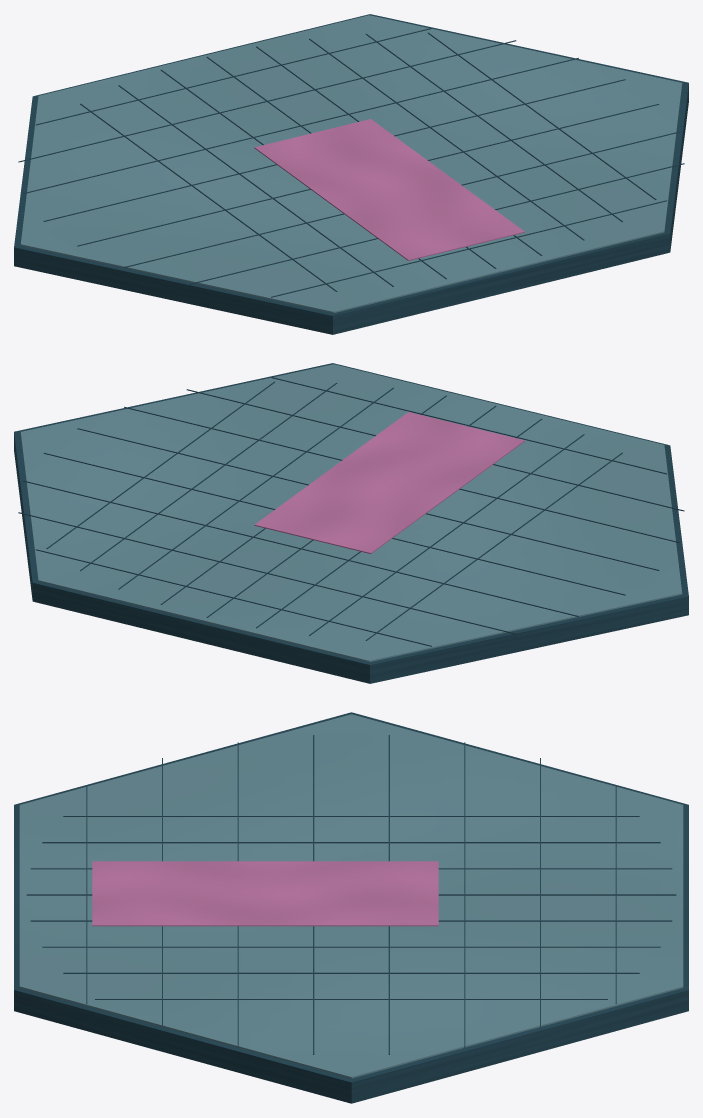
The model's file is atlas100-s066-a07.lod1.glb.
3 views of the same model, one above another, from view 1: azimuth 30°, elevation 25°; view 2: azimuth 150°, elevation 25°; view 3: azimuth 270°, elevation 25° (orthographic). The views are drawn at different scales.
Visible parts, largest first — view 1: atlas100-s066-a07:part-001, atlas100-s066-a07:part-000, atlas100-s066-a07:part-021, atlas100-s066-a07:part-015, atlas100-s066-a07:part-014, atlas100-s066-a07:part-016, atlas100-s066-a07:part-017, atlas100-s066-a07:part-018, atlas100-s066-a07:part-013, atlas100-s066-a07:part-020, atlas100-s066-a07:part-019, atlas100-s066-a07:part-009 (+3 smaller); view 2: atlas100-s066-a07:part-001, atlas100-s066-a07:part-000, atlas100-s066-a07:part-021, atlas100-s066-a07:part-015, atlas100-s066-a07:part-014, atlas100-s066-a07:part-016, atlas100-s066-a07:part-017, atlas100-s066-a07:part-018, atlas100-s066-a07:part-020, atlas100-s066-a07:part-013, atlas100-s066-a07:part-019, atlas100-s066-a07:part-009 (+3 smaller); view 3: atlas100-s066-a07:part-001, atlas100-s066-a07:part-021, atlas100-s066-a07:part-000, atlas100-s066-a07:part-009, atlas100-s066-a07:part-005, atlas100-s066-a07:part-010, atlas100-s066-a07:part-015, atlas100-s066-a07:part-007, atlas100-s066-a07:part-008.
Boxes of the visible parts, x1=… form: atlas100-s066-a07:part-001: x1=20, y1=15, x2=682, y2=313; atlas100-s066-a07:part-000: x1=14, y1=14, x2=688, y2=334; atlas100-s066-a07:part-021: x1=254, y1=119, x2=524, y2=260; atlas100-s066-a07:part-015: x1=23, y1=57, x2=578, y2=193; atlas100-s066-a07:part-014: x1=18, y1=40, x2=516, y2=162; atlas100-s066-a07:part-016: x1=43, y1=79, x2=625, y2=221; atlas100-s066-a07:part-017: x1=77, y1=103, x2=659, y2=246; atlas100-s066-a07:part-018: x1=124, y1=131, x2=679, y2=267; atlas100-s066-a07:part-013: x1=35, y1=28, x2=431, y2=125; atlas100-s066-a07:part-020: x1=271, y1=200, x2=667, y2=297; atlas100-s066-a07:part-019: x1=187, y1=163, x2=684, y2=285; atlas100-s066-a07:part-009: x1=309, y1=38, x2=584, y2=240; atlas100-s066-a07:part-001: x1=20, y1=364, x2=682, y2=662; atlas100-s066-a07:part-000: x1=14, y1=363, x2=688, y2=683; atlas100-s066-a07:part-021: x1=254, y1=412, x2=524, y2=553; atlas100-s066-a07:part-015: x1=23, y1=480, x2=578, y2=616; atlas100-s066-a07:part-014: x1=18, y1=512, x2=515, y2=634; atlas100-s066-a07:part-016: x1=43, y1=452, x2=625, y2=595; atlas100-s066-a07:part-017: x1=77, y1=428, x2=659, y2=570; atlas100-s066-a07:part-018: x1=124, y1=406, x2=679, y2=542; atlas100-s066-a07:part-020: x1=271, y1=377, x2=667, y2=474; atlas100-s066-a07:part-013: x1=35, y1=549, x2=431, y2=646; atlas100-s066-a07:part-019: x1=186, y1=389, x2=684, y2=511; atlas100-s066-a07:part-009: x1=118, y1=387, x2=393, y2=589; atlas100-s066-a07:part-001: x1=19, y1=714, x2=683, y2=1078; atlas100-s066-a07:part-021: x1=92, y1=861, x2=438, y2=926; atlas100-s066-a07:part-000: x1=14, y1=712, x2=688, y2=1103; atlas100-s066-a07:part-009: x1=42, y1=946, x2=660, y2=947; atlas100-s066-a07:part-005: x1=42, y1=842, x2=660, y2=843; atlas100-s066-a07:part-010: x1=63, y1=972, x2=639, y2=973; atlas100-s066-a07:part-015: x1=464, y1=742, x2=465, y2=1047; atlas100-s066-a07:part-007: x1=26, y1=894, x2=676, y2=895; atlas100-s066-a07:part-008: x1=30, y1=920, x2=672, y2=921.
Bounding box in the file's own units: 12.75 × 0.404 × 9.82.
3 materials, 3 textured.
